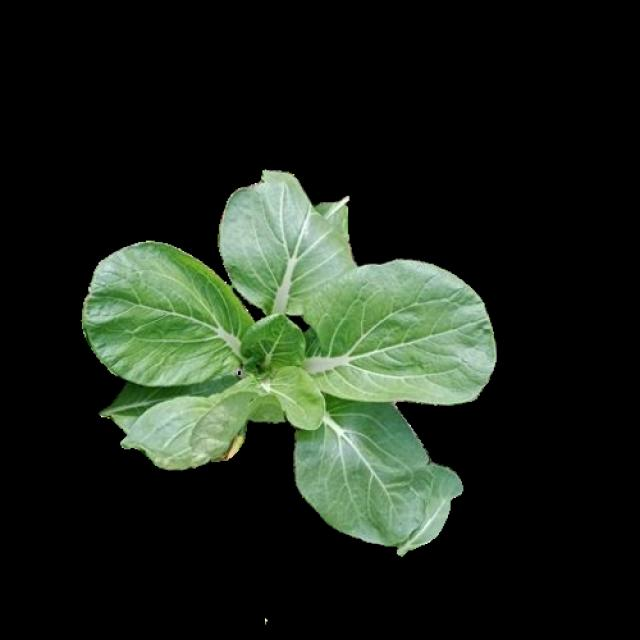healthy: (96, 188, 509, 560)
mature: (87, 170, 494, 549)
